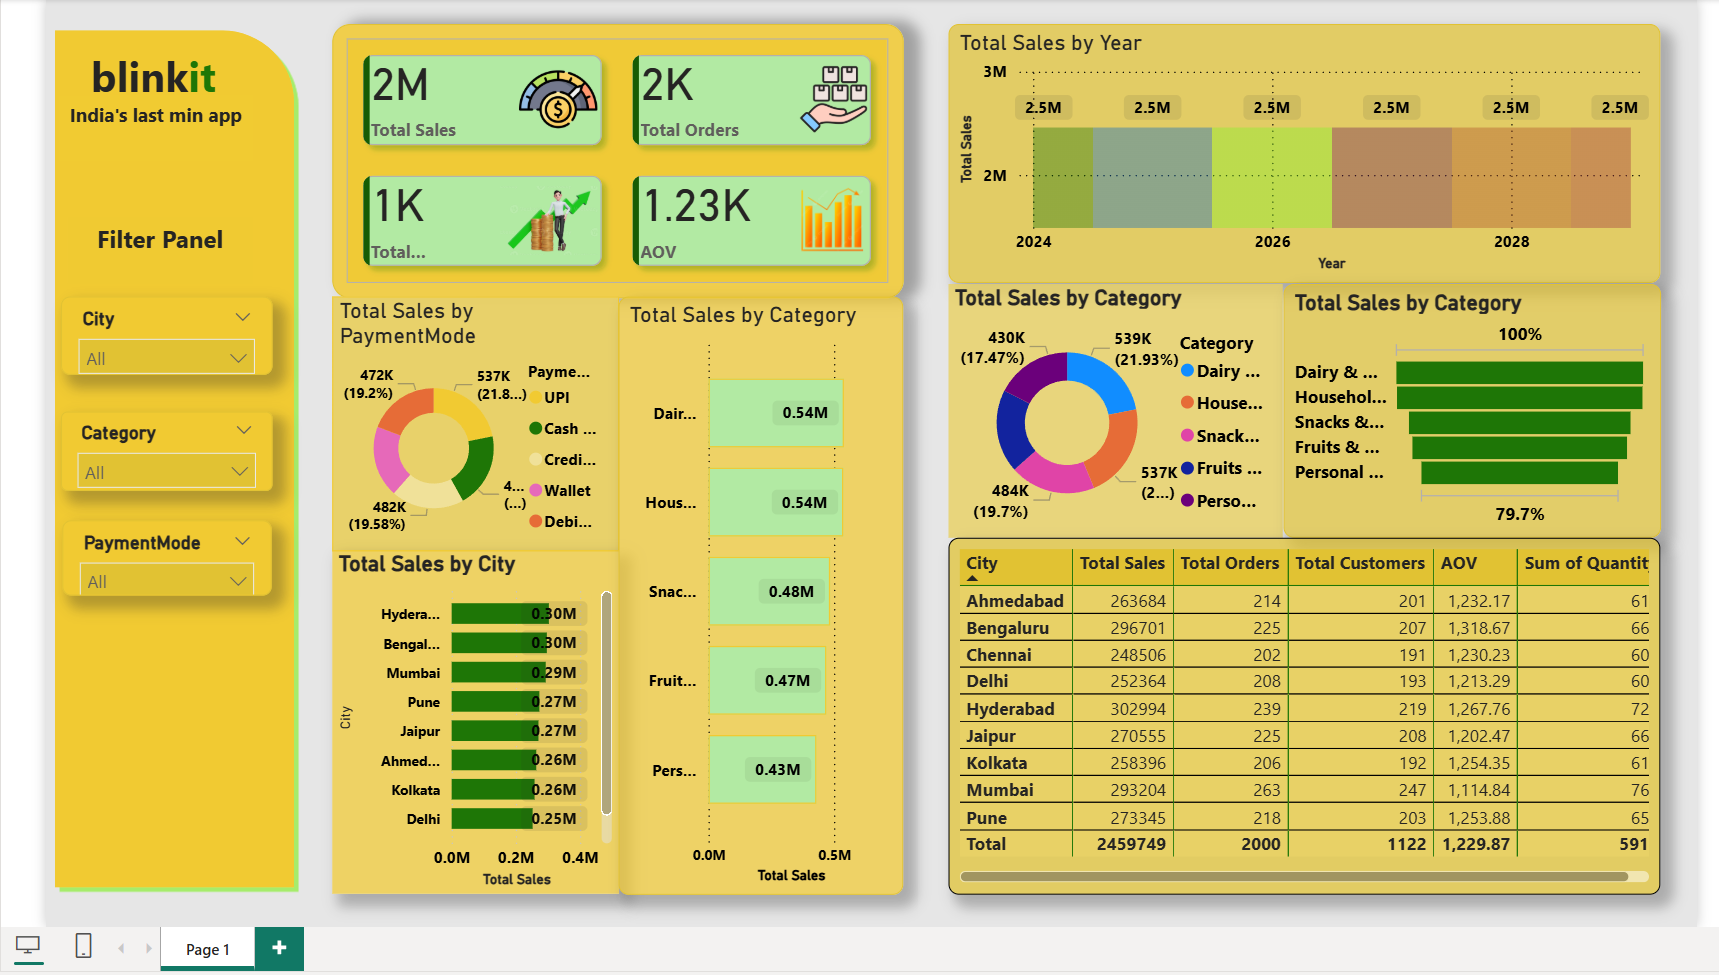

What the dashboard file says about the page in this screenshot:
{"tool":"powerbi","page":{"name":"Page 1","canvas":[1280,720],"ordinal":0},"visuals":[{"type":"cardVisual","fields":{"Data":["DateTable.Total Sales","DateTable.Total Orders","DateTable.Total Customers","DateTable.AOV"]},"box":[222.1,19.8,443,212.8],"z":0},{"type":"areaChart","fields":{"Category":["DateTable.Year"],"Y":["DateTable.Total Sales"]},"box":[700,19.8,552.3,201.2],"z":1000},{"type":"donutChart","fields":{"Category":["blinkit_sales.Category"],"Y":["DateTable.Total Sales"]},"box":[700,220.9,259.3,196.5],"z":2000},{"type":"funnel","fields":{"Category":["blinkit_sales.Category"],"Y":["DateTable.Total Sales"]},"box":[959.3,220.9,293,196.5],"z":3000},{"type":"pivotTable","fields":{"Rows":["blinkit_sales.City"],"Values":["DateTable.Total Sales","DateTable.Total Orders","DateTable.Total Customers","DateTable.AOV","Sum(blinkit_sales.Quantity)"]},"box":[700,417.4,552.3,276.7],"z":4000},{"type":"donutChart","fields":{"Category":["blinkit_sales.PaymentMode"],"Y":["DateTable.Total Sales"]},"box":[222.1,230.2,222.1,197.7],"z":5000},{"type":"clusteredBarChart","fields":{"Y":["DateTable.Total Sales"],"Category":["blinkit_sales.City"]},"box":[222.1,427.9,222.1,266.3],"z":6000},{"type":"clusteredBarChart","fields":{"Y":["DateTable.Total Sales"],"Category":["blinkit_sales.Category"]},"box":[444.2,230.2,220.9,464],"z":7000},{"type":"shape","box":[2.3,19.8,195.3,674.4],"z":8000},{"type":"textbox","box":[18.6,32.6,130,52],"z":9000},{"type":"textbox","box":[9.3,74.4,151.2,51.2],"z":10000},{"type":"textbox","box":[16.3,168.6,144.2,52.3],"z":11000},{"type":"slicer","fields":{"Values":["blinkit_sales.City"]},"box":[11.6,230.2,164,60.5],"z":12000},{"type":"slicer","fields":{"Values":["blinkit_sales.Category"]},"box":[11.6,319.8,164,61.6],"z":13000},{"type":"slicer","fields":{"Values":["blinkit_sales.PaymentMode"]},"box":[12.8,404.7,162.8,58.1],"z":14000}]}

Visuals, with their boxes on the page's 1280x720 design canvas (x1, y1, x2, y2). These are canvas units, not pixel positions in the 1719x975 screenshot, which may show the page scaled, cropped or inside an application window:
cardVisual - DateTable.Total Sales x DateTable.Total Orders: l=222, t=20, r=665, b=233
areaChart - DateTable.Year x DateTable.Total Sales: l=700, t=20, r=1252, b=221
donutChart - blinkit_sales.Category x DateTable.Total Sales: l=700, t=221, r=959, b=417
funnel - blinkit_sales.Category x DateTable.Total Sales: l=959, t=221, r=1252, b=417
pivotTable - blinkit_sales.City x DateTable.Total Sales: l=700, t=417, r=1252, b=694
donutChart - blinkit_sales.PaymentMode x DateTable.Total Sales: l=222, t=230, r=444, b=428
clusteredBarChart - DateTable.Total Sales x blinkit_sales.City: l=222, t=428, r=444, b=694
clusteredBarChart - DateTable.Total Sales x blinkit_sales.Category: l=444, t=230, r=665, b=694
shape: l=2, t=20, r=198, b=694
textbox: l=19, t=33, r=149, b=85
textbox: l=9, t=74, r=160, b=126
textbox: l=16, t=169, r=160, b=221
slicer - blinkit_sales.City: l=12, t=230, r=176, b=291
slicer - blinkit_sales.Category: l=12, t=320, r=176, b=381
slicer - blinkit_sales.PaymentMode: l=13, t=405, r=176, b=463
